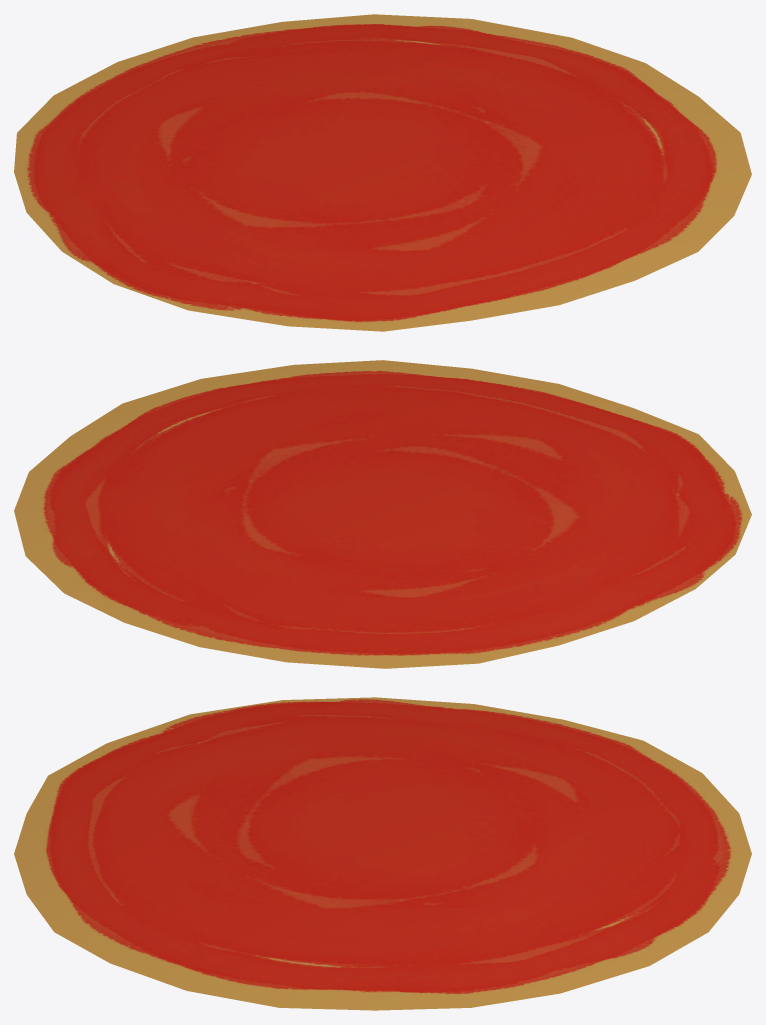
File: Pizza_Tomato_Raw.fbx
3 views of the same model, one above another, from view 1: azimuth 30°, elevation 25°; view 2: azimuth 150°, elevation 25°; view 3: azimuth 270°, elevation 25° (orthographic). The views are drawn at different scales.
Visible parts, largest first — view 1: Pizza_Tomato_Raw; view 2: Pizza_Tomato_Raw; view 3: Pizza_Tomato_Raw.
Boxes of the visible parts, <box> form: Pizza_Tomato_Raw: <box>14,14,751,331</box>; Pizza_Tomato_Raw: <box>14,360,751,668</box>; Pizza_Tomato_Raw: <box>14,697,751,1010</box>.
Bounding box in the file's own units: 0.7648 × 0.0147 × 0.7615.
Materials: 1 (1 with a texture image).
